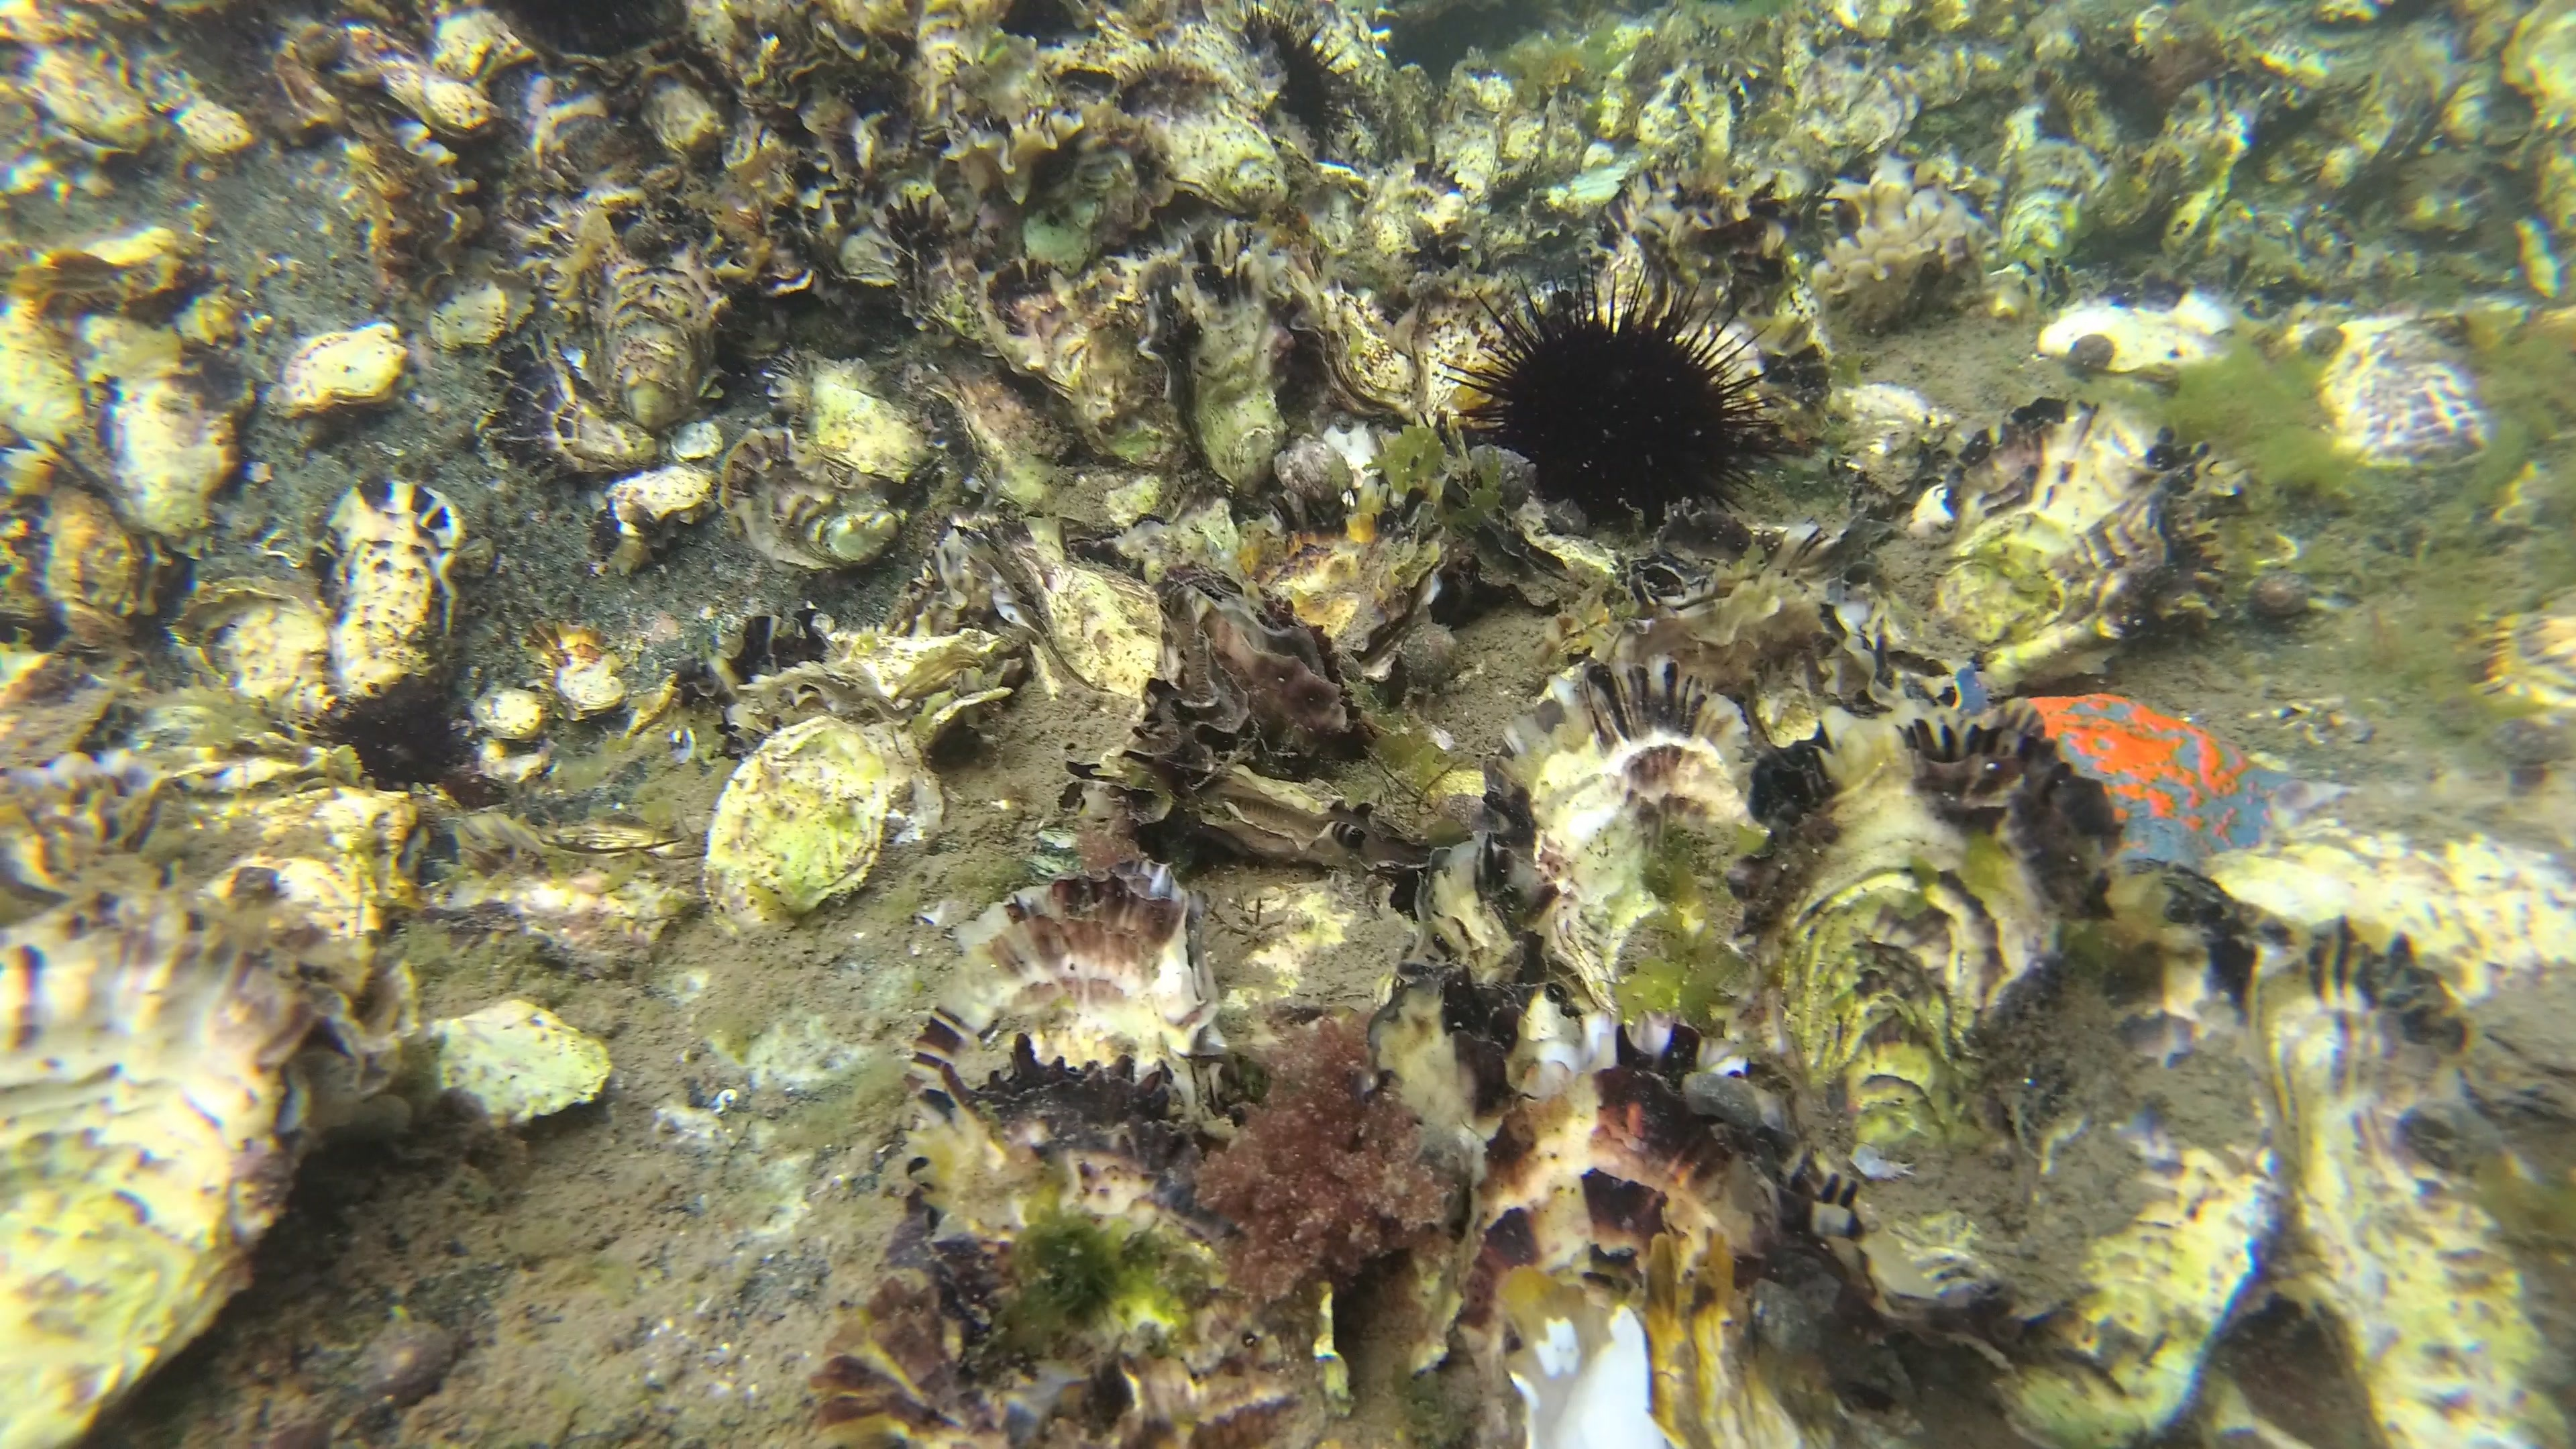echinus: (1433, 260, 1780, 541), (1228, 2, 1369, 161)
starfish: (1943, 656, 2300, 888)
